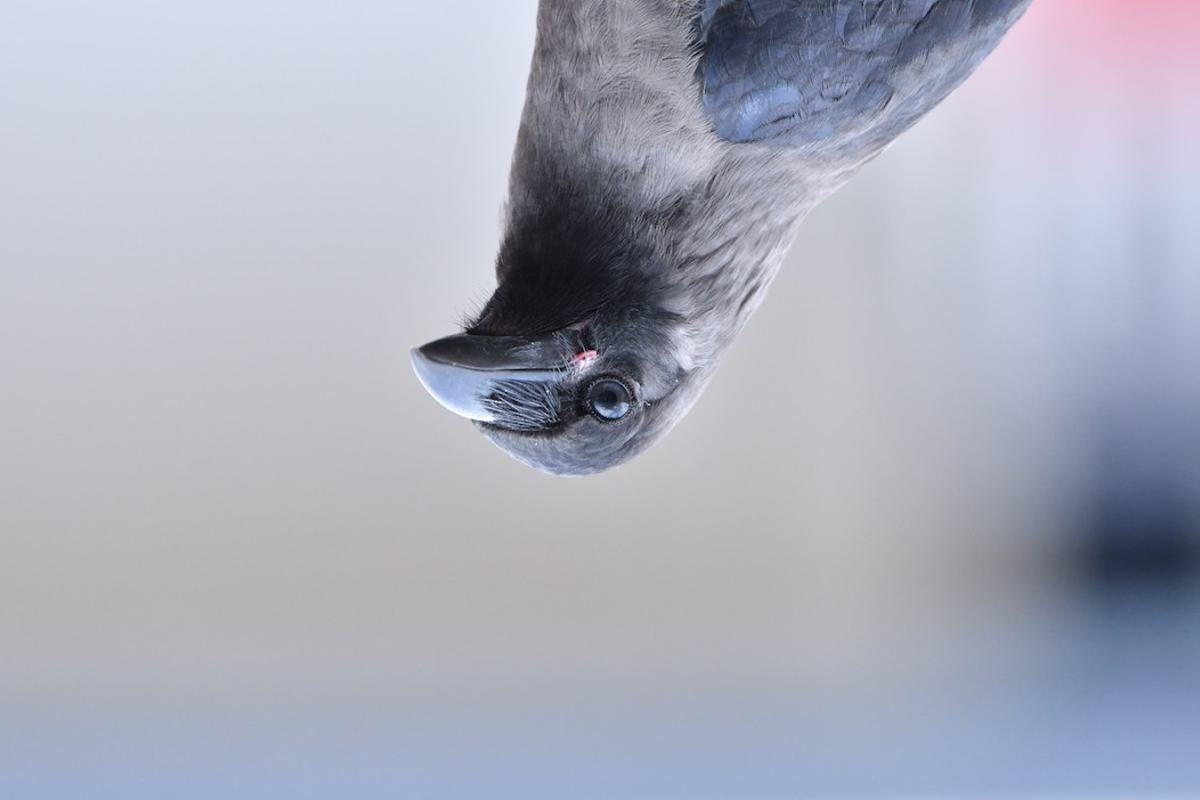crow: (398, 1, 1044, 482)
